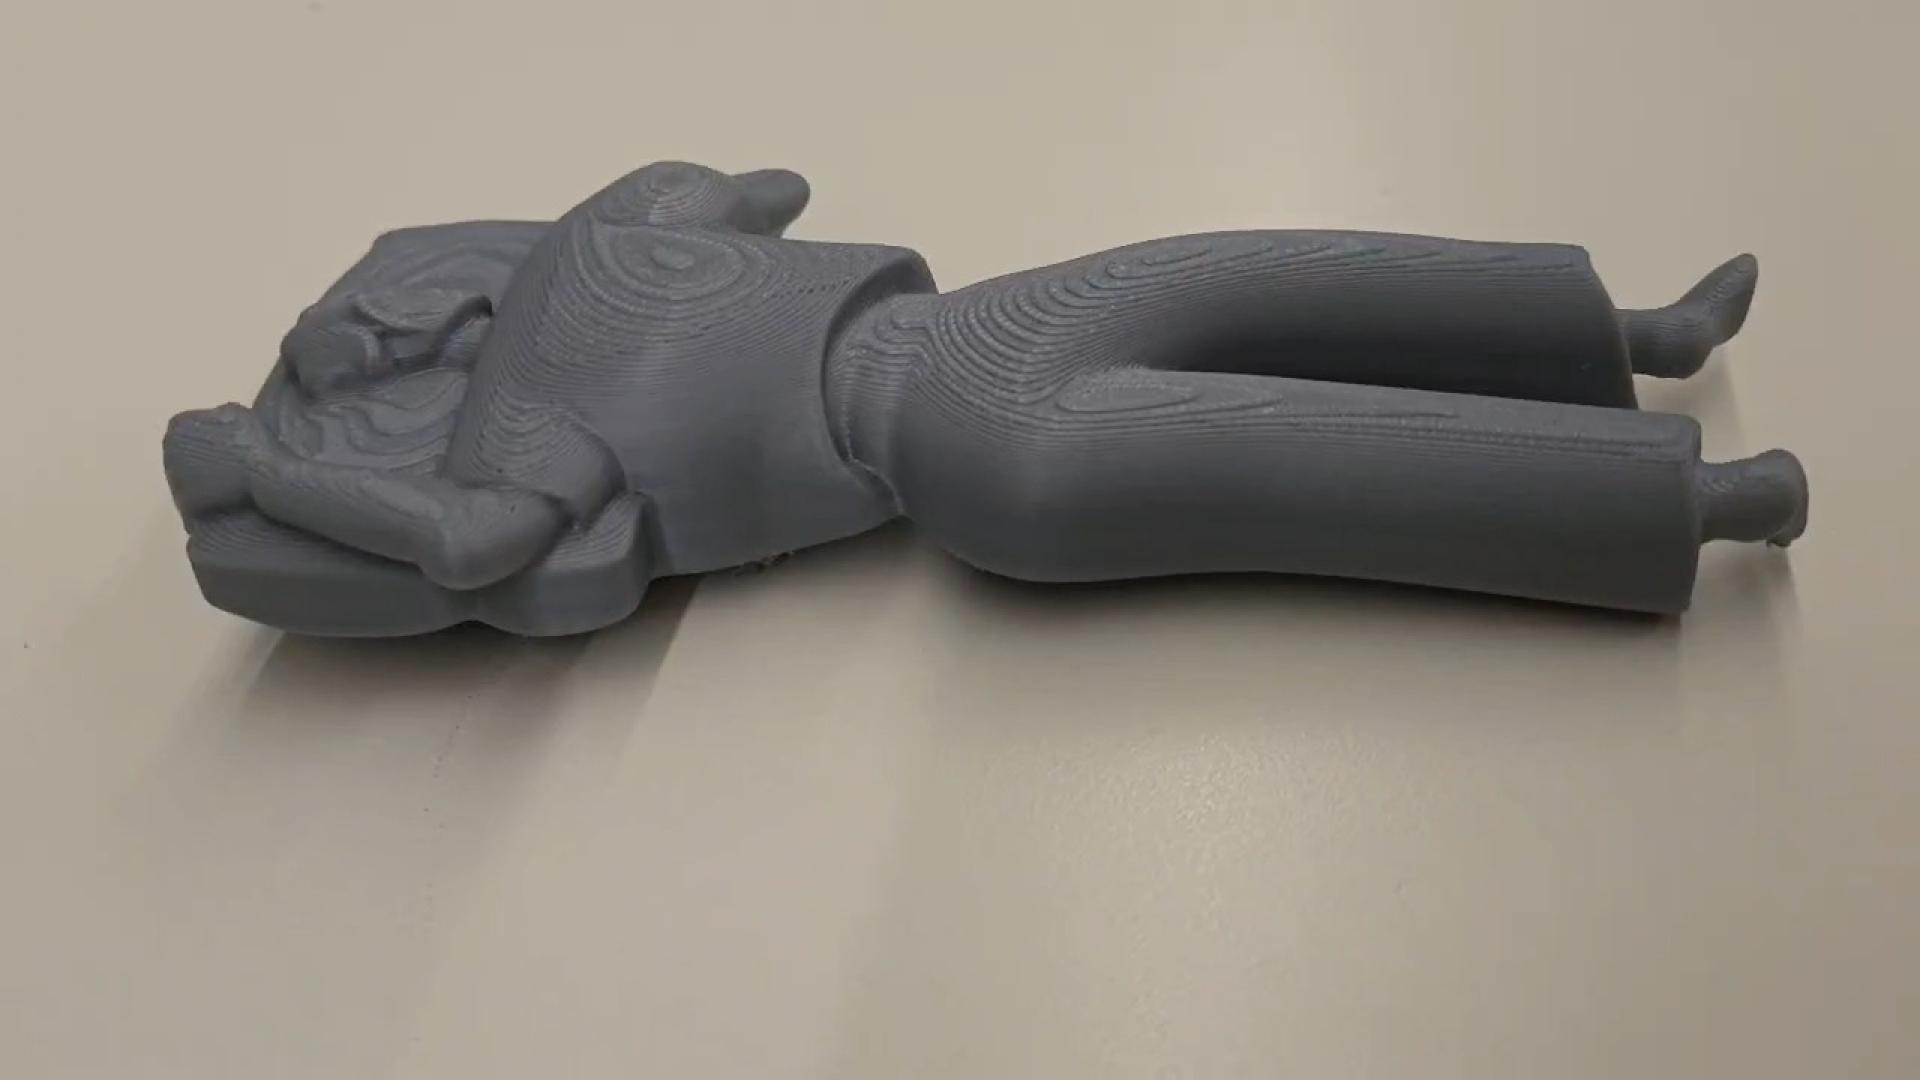Bad-style: (149, 154, 1811, 653)
